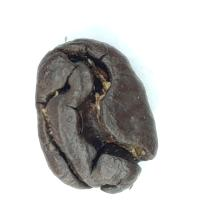NG: (39, 50, 153, 184)
